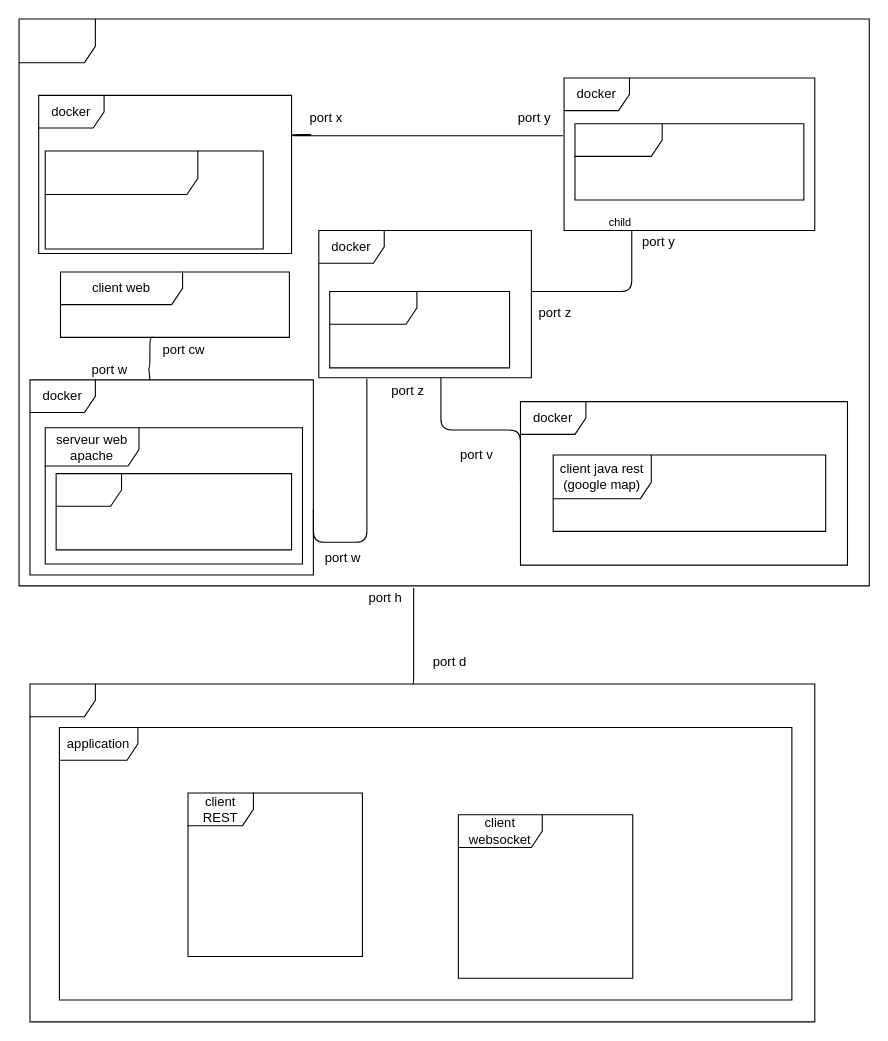
Image size: 888x1041. Some labels were removed from this diagram. The shapes that lost their labels are listed below. From the top down, each one's box as (x1, y1, x2, y2) in pixels, then its label:
(574, 123, 804, 200): postgresql
(44, 150, 263, 249): serveur websocket java grizzly
(18, 18, 869, 586): machine hote
(329, 290, 510, 368): serveur rest java jersey
(55, 473, 292, 550): client rest php
(29, 683, 815, 1022): android device
